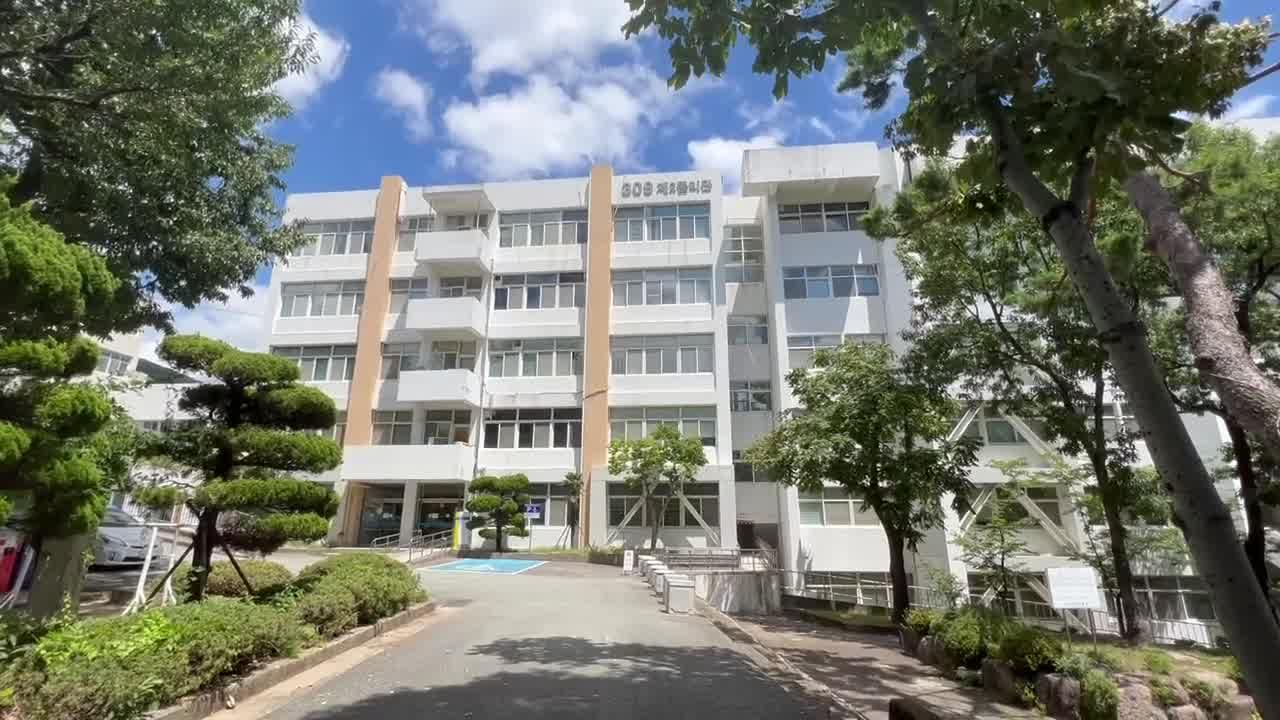building: (334, 169, 768, 441)
